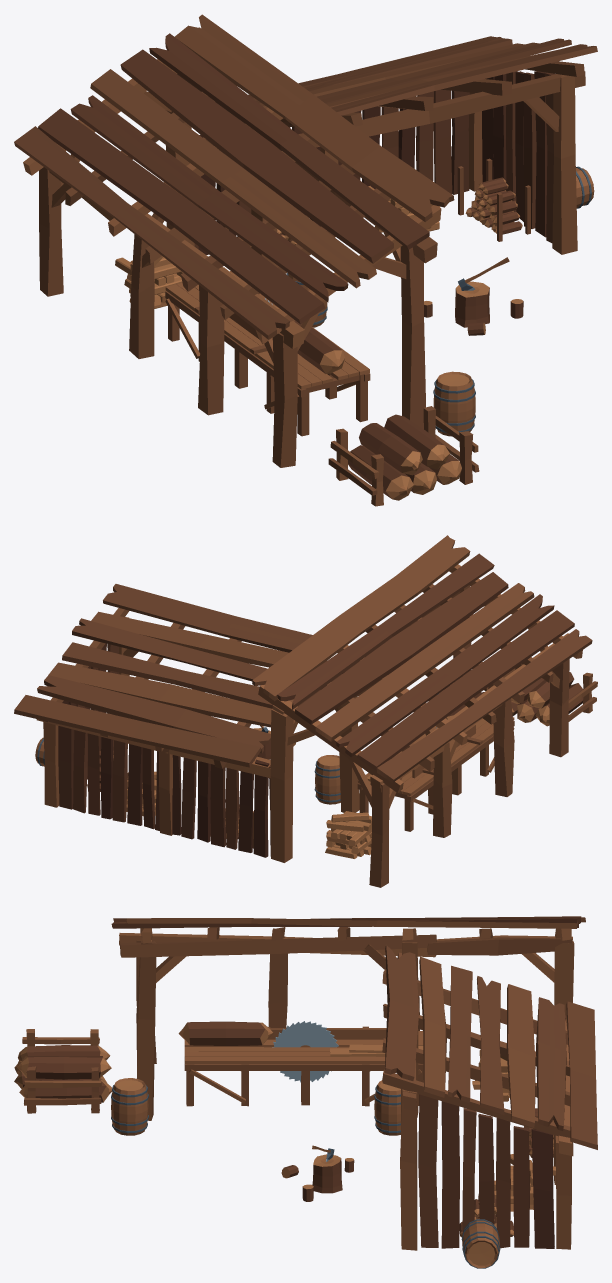
The model's file is Sawmill.fbx.
The picture shows the model from 3 angles, top to bottom: view 1: azimuth 30°, elevation 25°; view 2: azimuth 150°, elevation 25°; view 3: azimuth 270°, elevation 25°; orthographic projection. The views are drawn at different scales.
Parts seen in each view (by area): view 1: Sawmill_Roof, Sawmill_Building, Log_Stack, Saw_Body, Firewood_Stack_01, Barrel_01, Stump, Timber_Stack_01; view 2: Sawmill_Roof, Sawmill_Building, Saw_Body, Log_Stack, Timber_Stack_01, Barrel_02; view 3: Sawmill_Building, Sawmill_Roof, Saw_Body, Log_Stack, Barrel_01, Saw_Blade, Barrel_03, Barrel_02, Stump, Timber_Stack_02.
Boxes of the visible parts, x1,y1,x2,y2 form: Sawmill_Roof: [14, 14, 597, 339]; Sawmill_Building: [23, 27, 585, 467]; Log_Stack: [328, 406, 479, 506]; Saw_Body: [165, 267, 370, 436]; Firewood_Stack_01: [457, 158, 530, 241]; Barrel_01: [433, 371, 475, 436]; Stump: [455, 281, 489, 327]; Timber_Stack_01: [115, 256, 183, 308]; Sawmill_Roof: [14, 535, 592, 782]; Sawmill_Building: [36, 564, 582, 887]; Saw_Body: [357, 692, 514, 831]; Log_Stack: [484, 663, 597, 726]; Timber_Stack_01: [325, 811, 371, 858]; Barrel_02: [314, 755, 340, 804]; Sawmill_Building: [119, 927, 574, 1250]; Sawmill_Roof: [111, 916, 597, 1149]; Saw_Body: [178, 1021, 423, 1106]; Log_Stack: [14, 1029, 112, 1113]; Barrel_01: [111, 1078, 148, 1135]; Saw_Blade: [272, 1021, 338, 1082]; Barrel_03: [461, 1219, 500, 1268]; Barrel_02: [374, 1080, 400, 1135]; Stump: [312, 1154, 342, 1193]; Timber_Stack_02: [494, 1154, 555, 1211].
Bounding box in the file's own units: 9.72 × 4.28 × 10.64.
